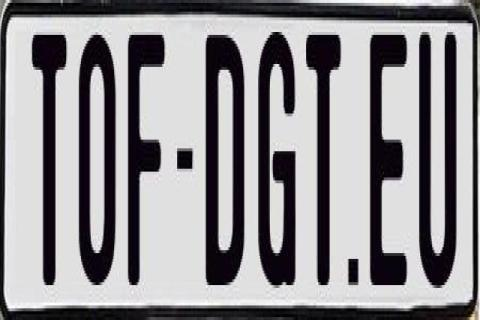0: (78, 32, 114, 285)
D: (206, 29, 246, 297)
E: (370, 26, 408, 291)
F: (125, 26, 168, 291)
G: (258, 29, 298, 291)
T: (306, 35, 341, 299), (30, 35, 64, 297)
U: (419, 32, 463, 300)
